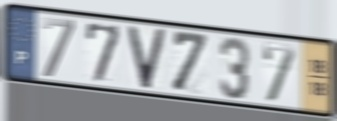3: (218, 34, 251, 102)
7: (171, 28, 211, 94), (83, 21, 122, 84), (261, 40, 298, 105), (41, 15, 76, 79)
V: (126, 24, 169, 92)
